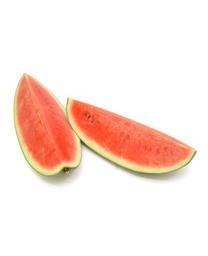watermelon: (13, 71, 197, 178)
